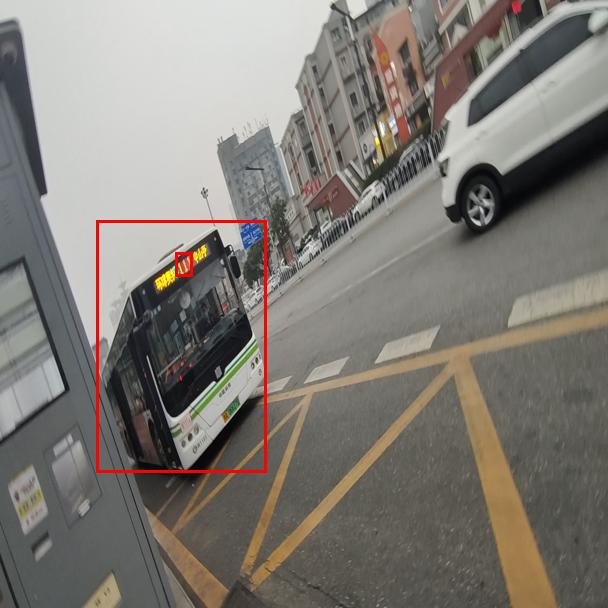bus: (96, 220, 266, 472)
screen: (175, 252, 192, 276)
